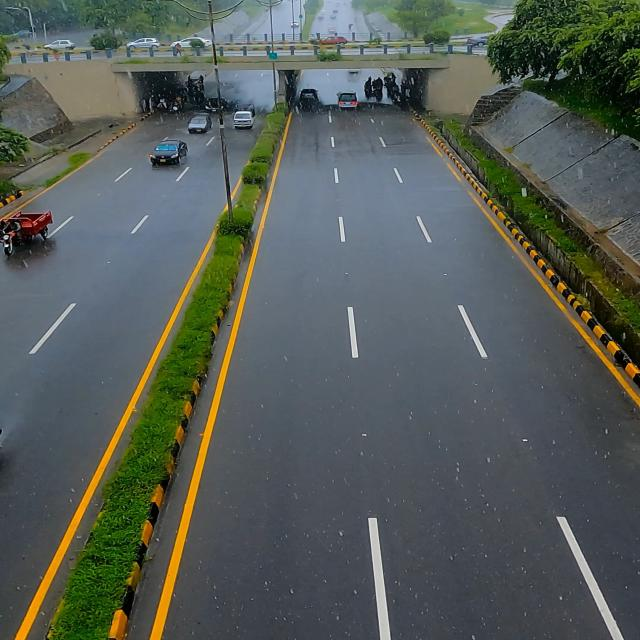Car: (0, 206, 57, 261), (144, 137, 188, 169)
